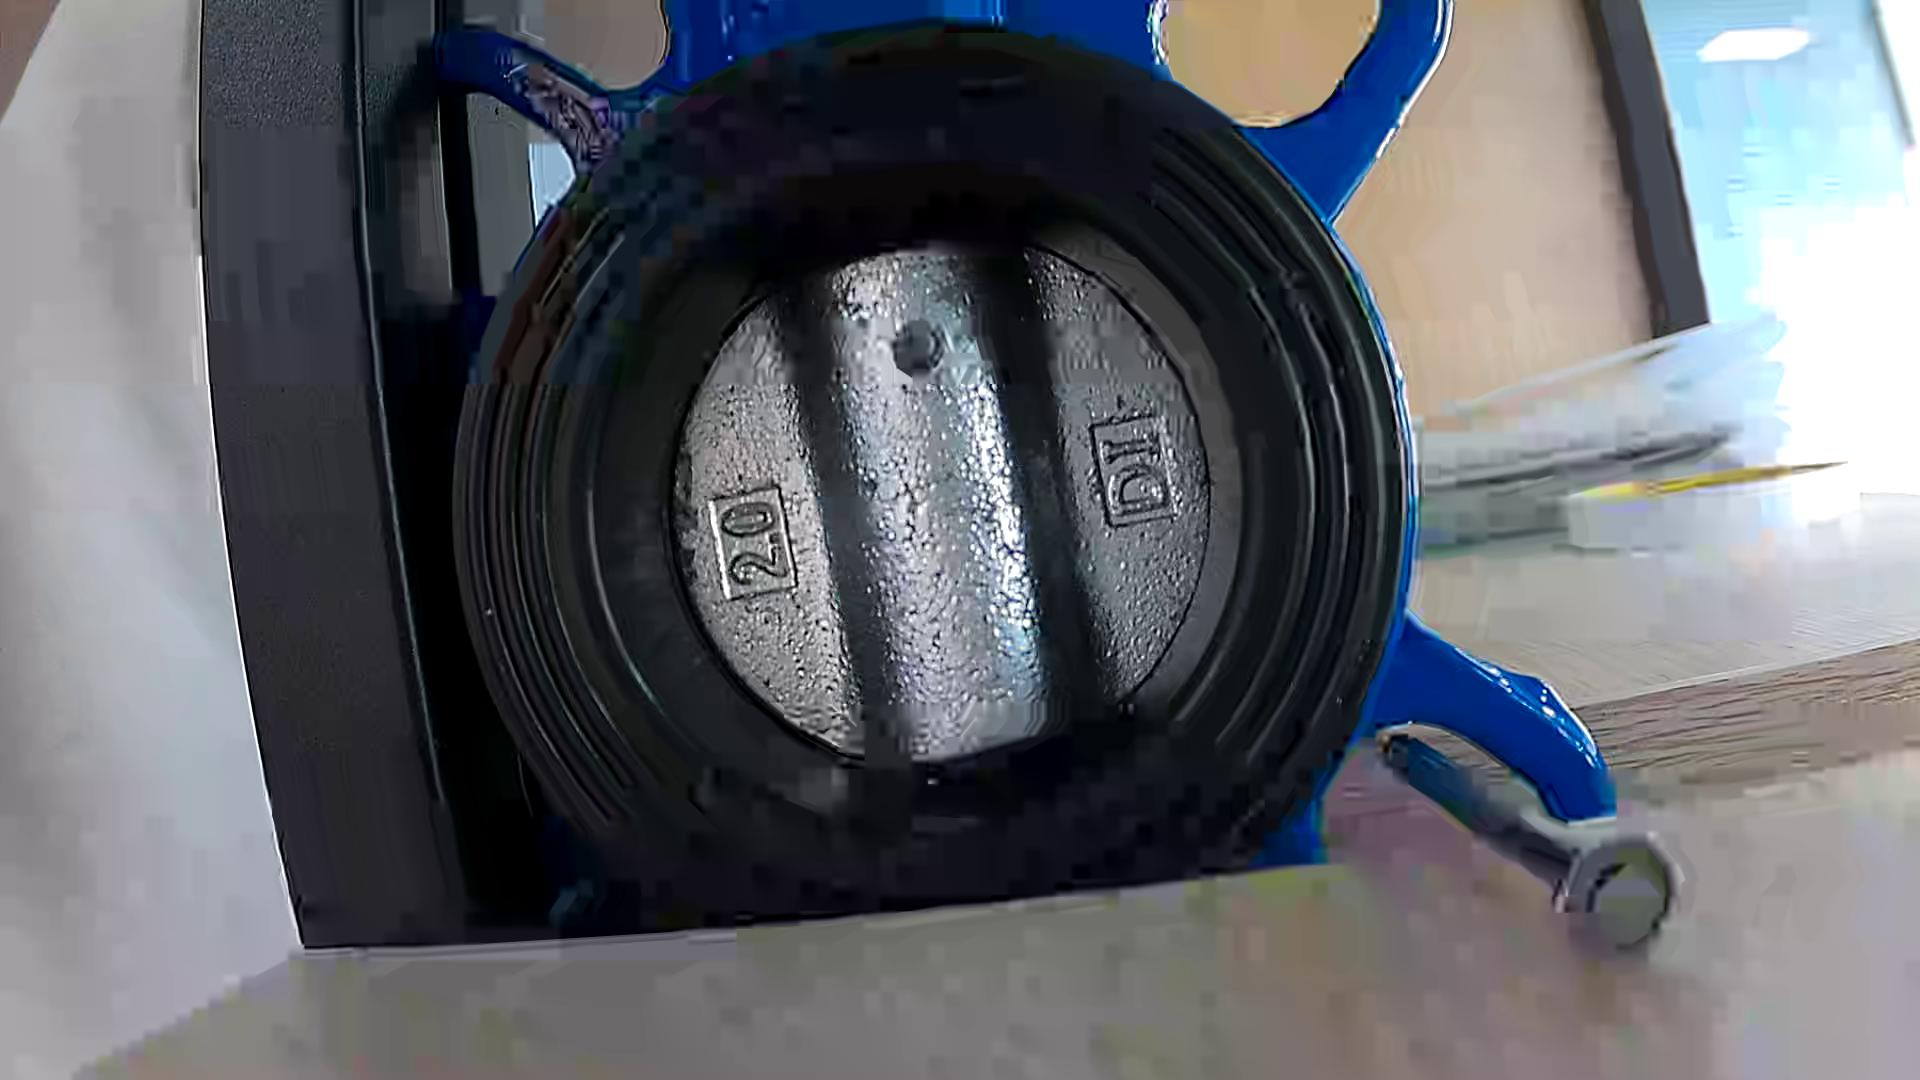valve: (671, 248, 1212, 765)
